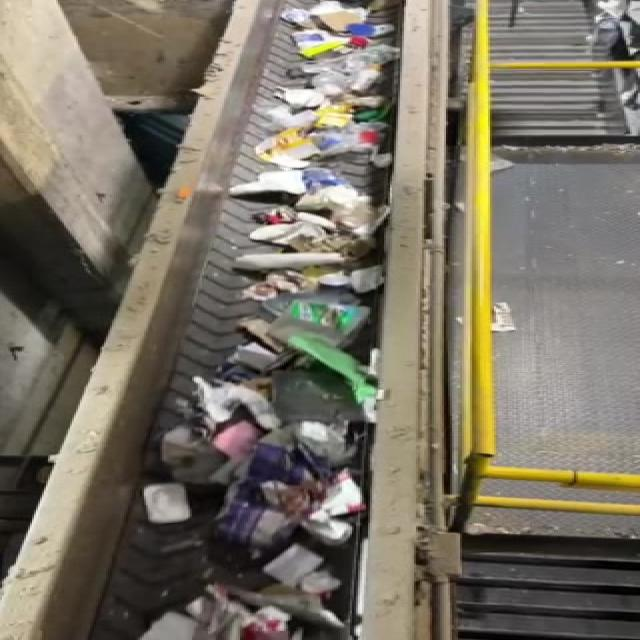hdpe: (293, 500, 353, 549)
paper: (136, 583, 354, 640)
pp: (292, 334, 392, 421), (132, 478, 196, 531)
